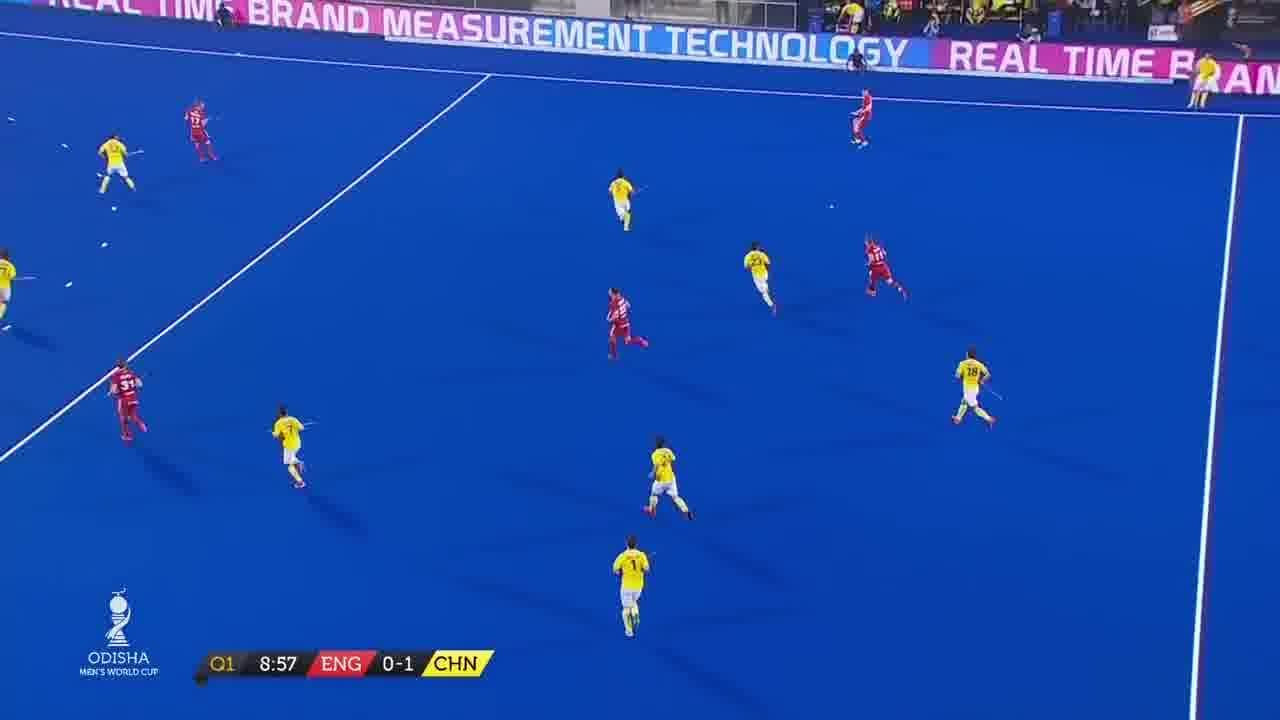ball: (826, 199, 842, 212)
